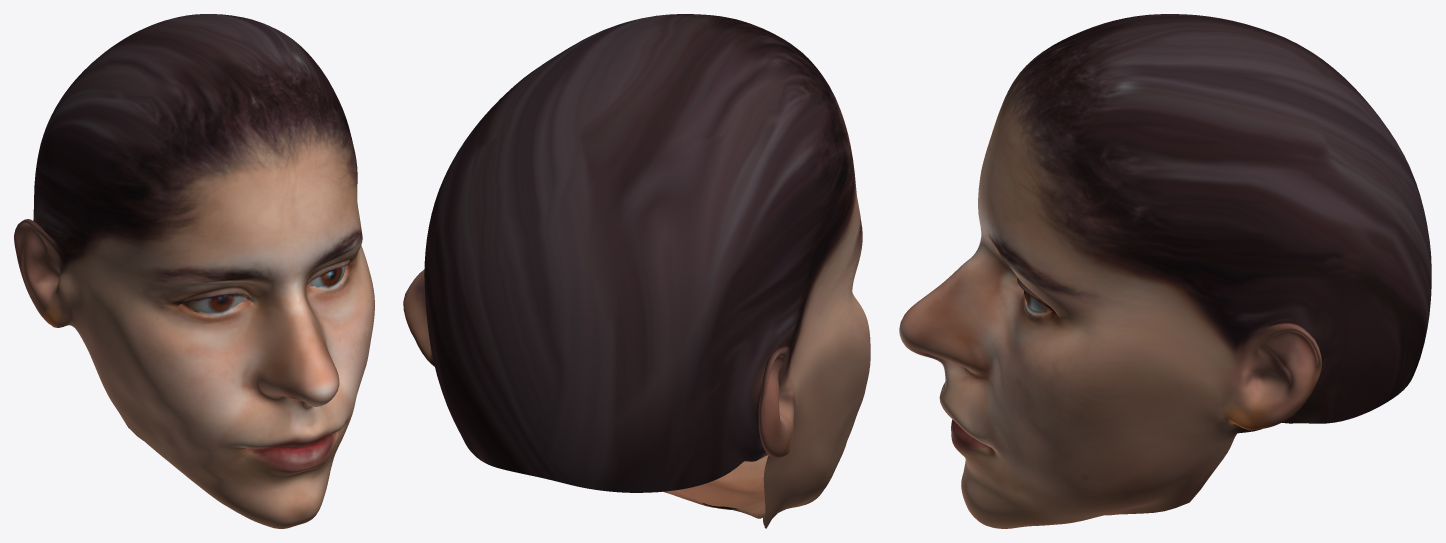
The model's file is faces11-small.glb.
3 views of the same model, side by side, from view 1: azimuth 30°, elevation 25°; view 2: azimuth 150°, elevation 25°; view 3: azimuth 270°, elevation 25° (orthographic). The views are drawn at different scales.
Visible parts, largest first — view 1: FBHead; view 2: FBHead; view 3: FBHead.
Part boxes in pixels (bbox=[...]): FBHead: bbox=[14, 14, 374, 528]; FBHead: bbox=[403, 14, 870, 528]; FBHead: bbox=[899, 14, 1431, 528].
Bounding box in the file's own units: 1.17 × 1.62 × 1.59.
Materials: 1 (1 with a texture image).
